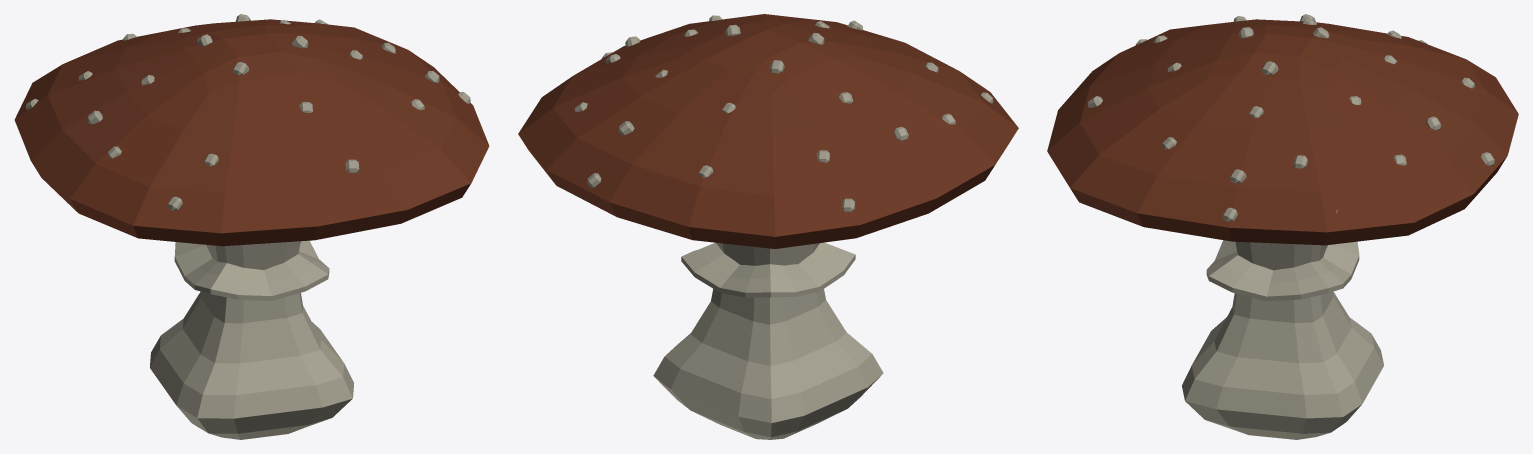
Rendered from Mushroom_4.glb.
The picture shows the model from 3 angles, left to right: view 1: azimuth 30°, elevation 25°; view 2: azimuth 150°, elevation 25°; view 3: azimuth 270°, elevation 25°; orthographic projection.
Visible parts, largest first — view 1: Mushroom_4; view 2: Mushroom_4; view 3: Mushroom_4.
Boxes of the visible parts, x1,y1,x2,y2 form: Mushroom_4: [14, 14, 489, 439]; Mushroom_4: [518, 14, 1018, 439]; Mushroom_4: [1047, 14, 1518, 439].
Size of the model in its own units: 0.4451 by 0.3995 by 0.4451.
